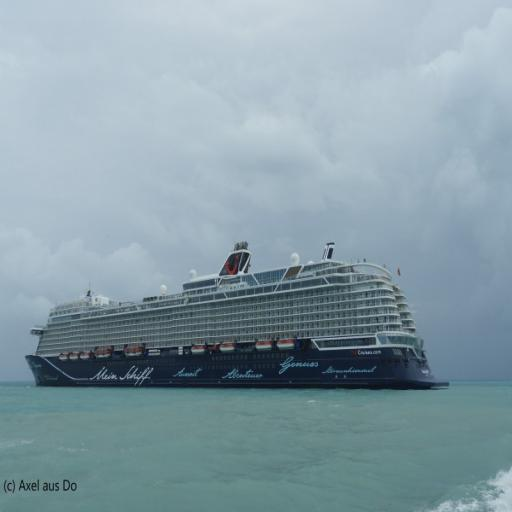cruises: (21, 239, 452, 394)
